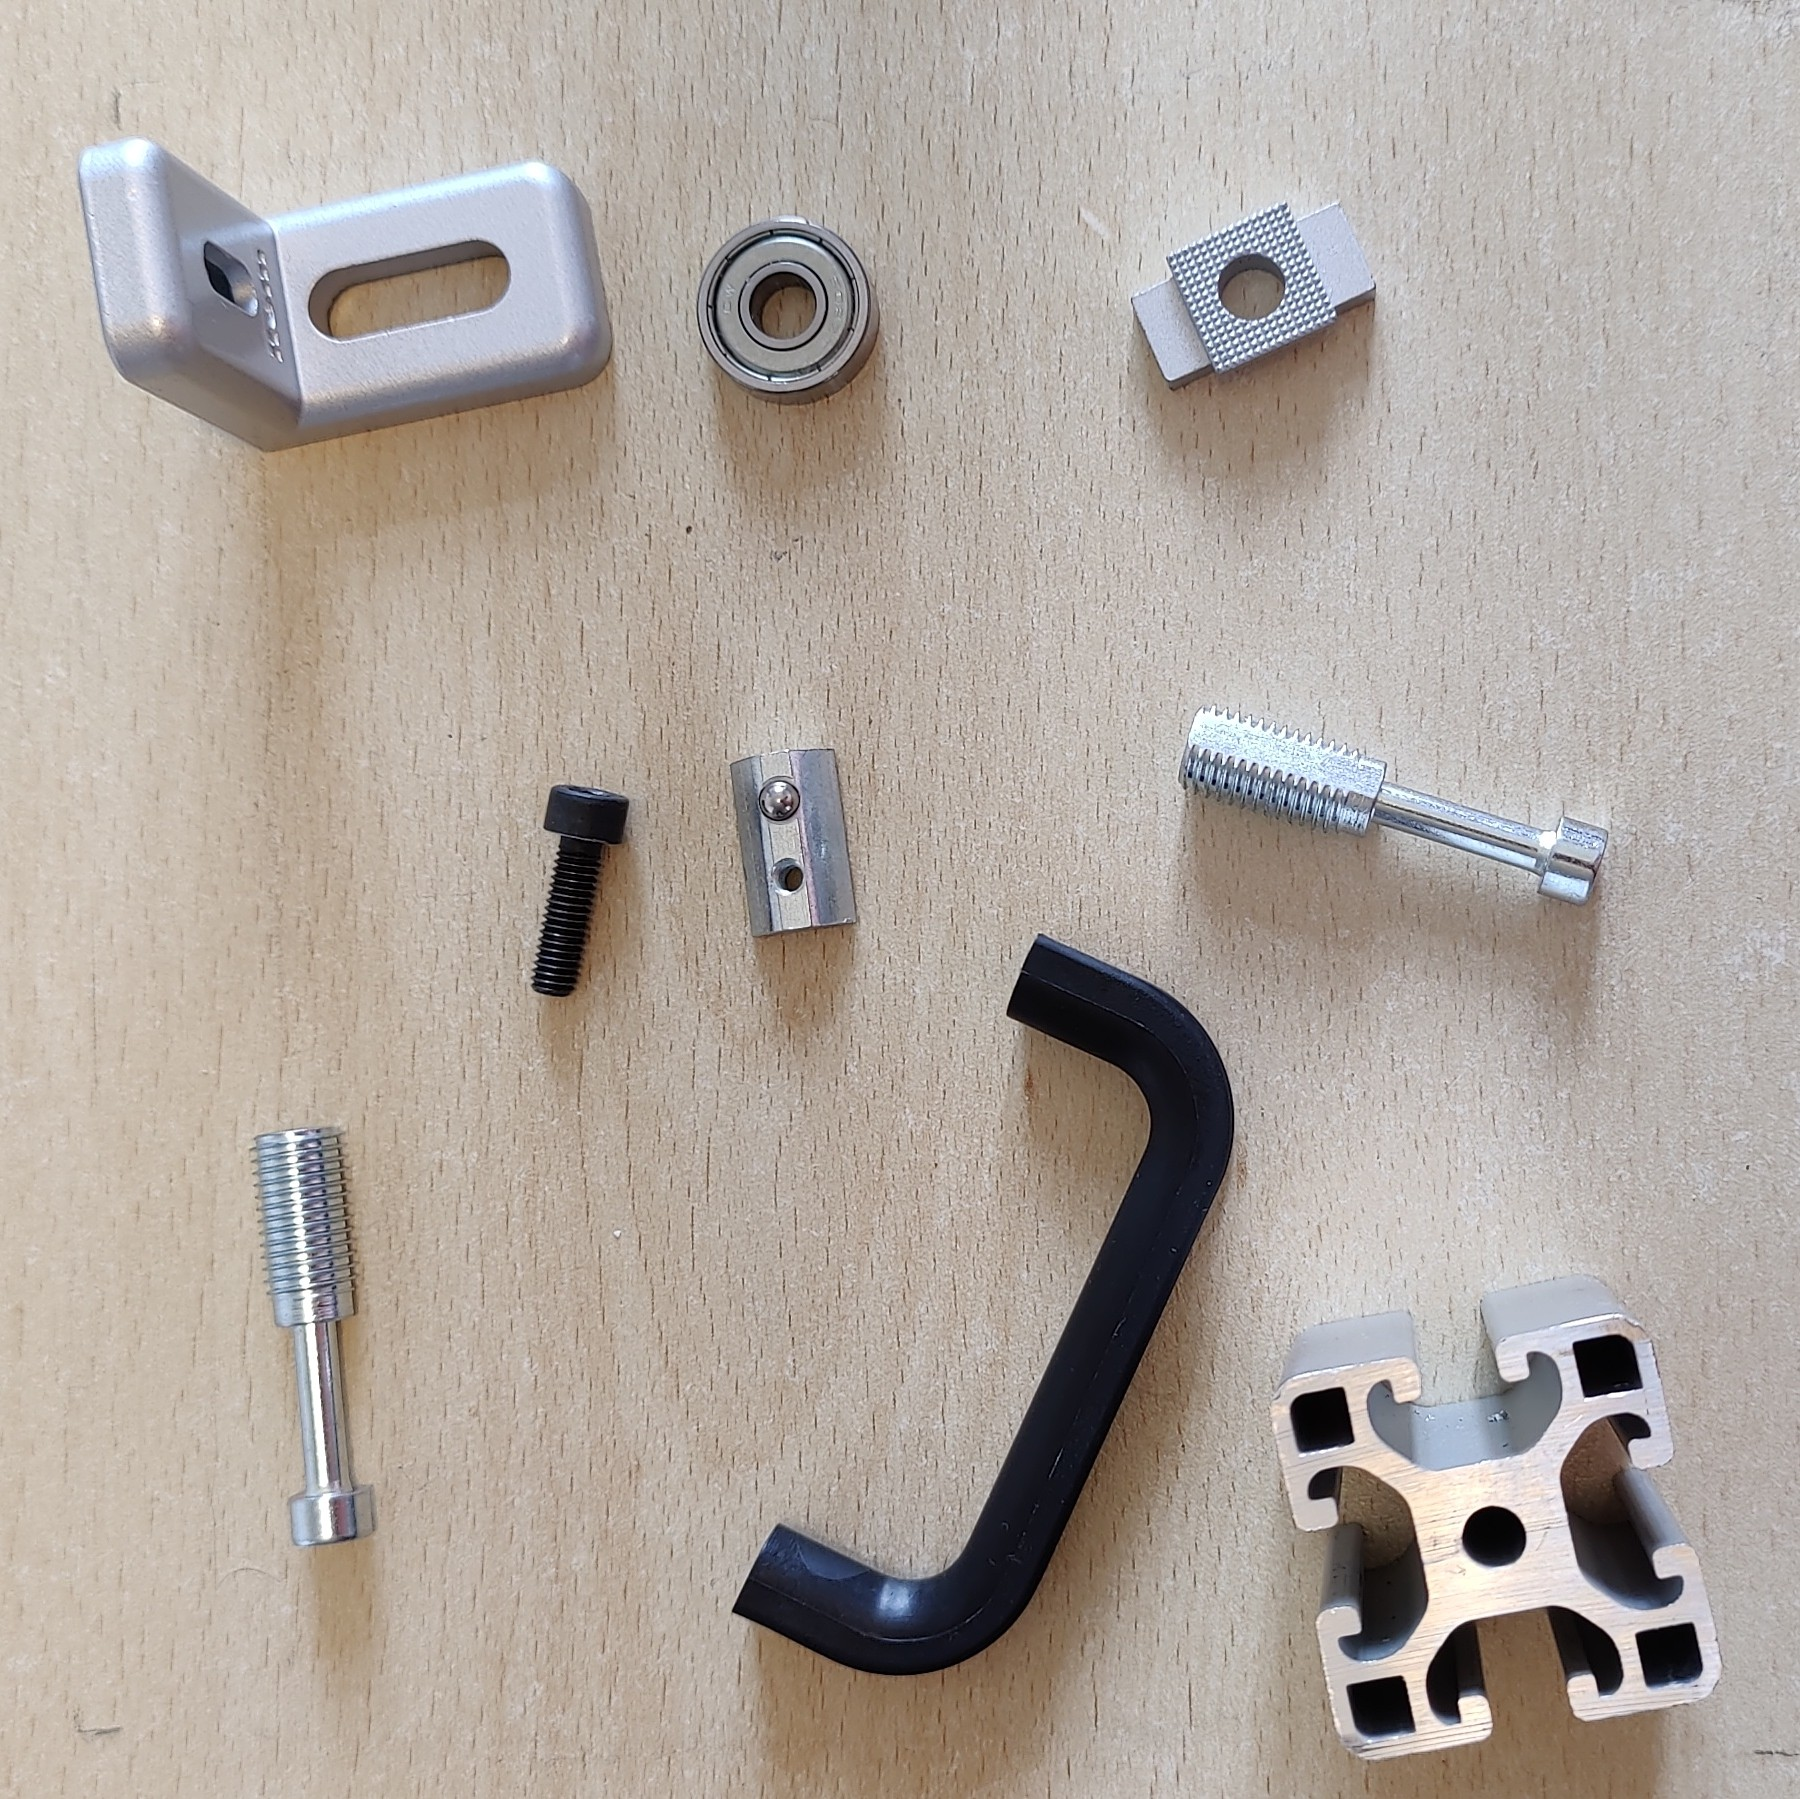Aluminium Extension: (1266, 1275, 1724, 1764)
Ball Bearing: (697, 213, 883, 407)
Multiwinkel: (74, 137, 616, 455)
Pull Handle: (731, 931, 1238, 1679)
Shoulder Socket Head Cap Screw: (1173, 707, 1612, 908), (245, 1124, 379, 1550)
Socket Head Cap Screw: (529, 783, 631, 998)
T Nut Square: (1128, 199, 1382, 395)
T Spring Nut: (728, 745, 861, 942)
